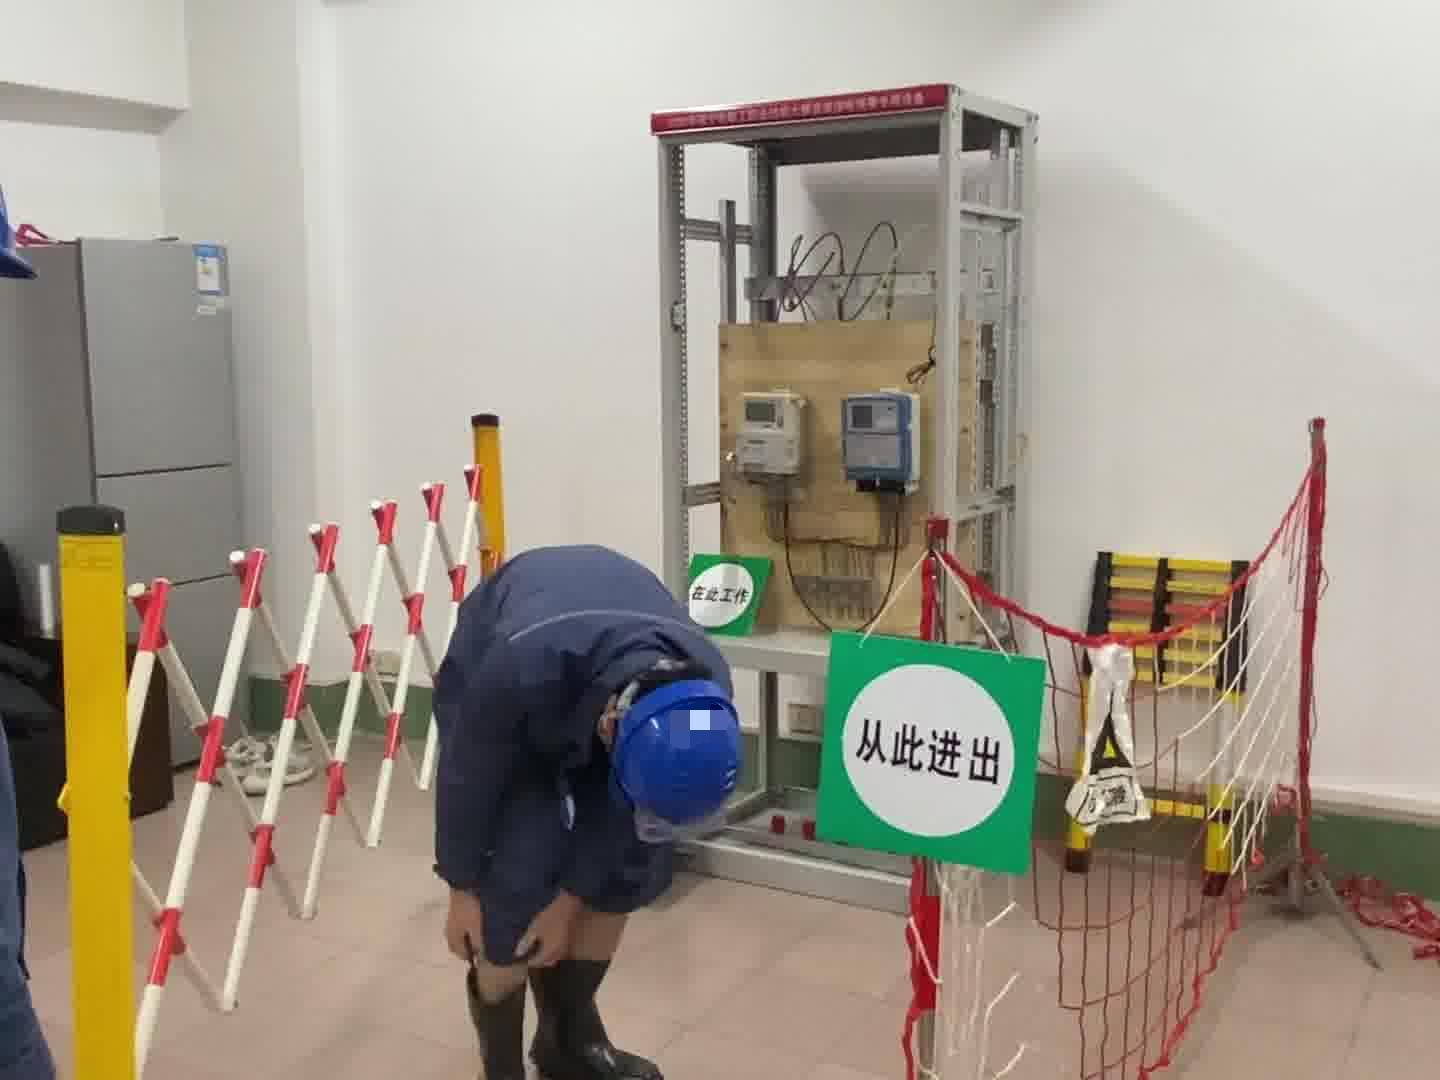halt: (611, 680, 749, 854)
